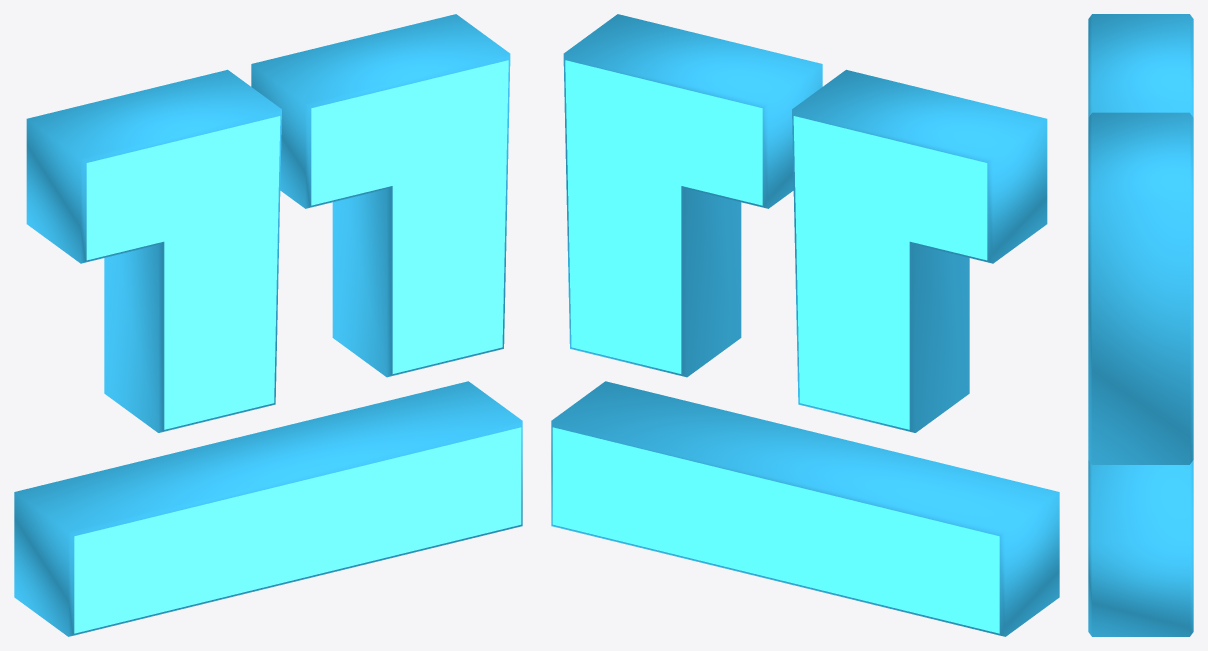
3 views of the same model, side by side, from view 1: azimuth 30°, elevation 25°; view 2: azimuth 150°, elevation 25°; view 3: azimuth 270°, elevation 25° (orthographic). The views are drawn at different scales.
Parts seen in each view (by area): view 1: glyph; view 2: glyph; view 3: glyph.
Part boxes in pixels (<box>): glyph: <box>14,14,522,636</box>; glyph: <box>551,14,1059,636</box>; glyph: <box>1088,14,1193,636</box>.
Size of the model in its own units: 0.0726 by 0.0726 by 0.0162.
